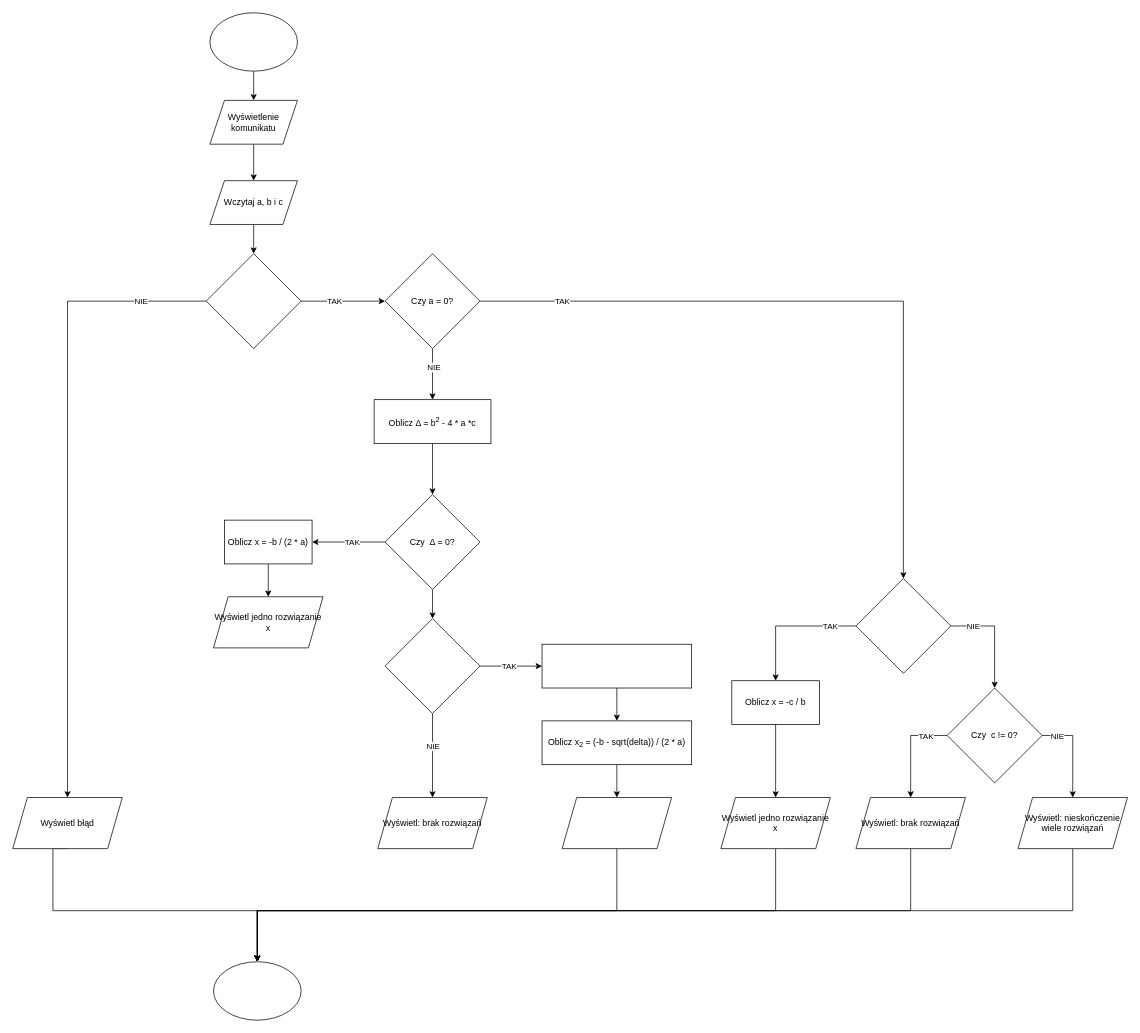
The diagram is 1140 pixels wide and 1033 high, and some of its shapes have lost their labels. Each missing label, with the centre of its shape:
"Czy b != 0?" goes at [903,625].
"Czy dane są poprawne?" goes at [253,301].
"Czy Δ > 0?" goes at [432,666].
"Oblicz x 1 = (-b + sqrt(delta)) / (2 * a)" goes at [616,665].
"START" goes at [253,41].
"STOP" goes at [257,990].
"Wyświetl dwa rozwiązania x 1 i x 2" goes at [616,823].
